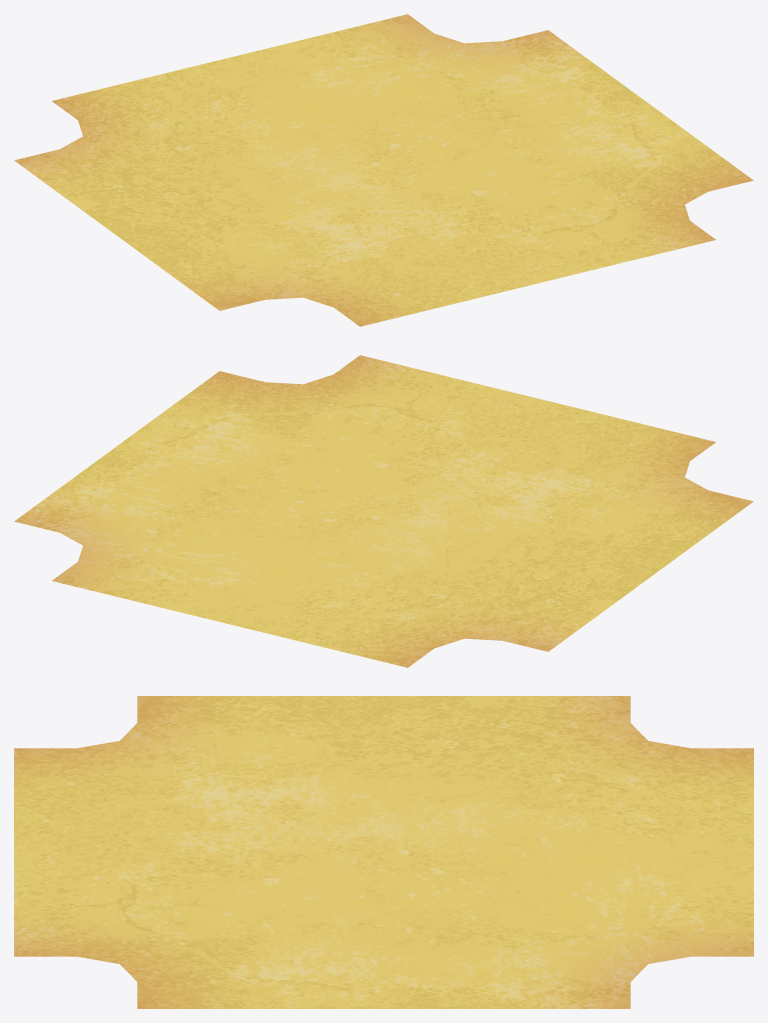
The model's file is Road.003.fbx.
3 renders of one model, top to bottom at view 1: azimuth 30°, elevation 25°; view 2: azimuth 150°, elevation 25°; view 3: azimuth 270°, elevation 25°, orthographic. The views are drawn at different scales.
Parts seen in each view (by area): view 1: Road.003; view 2: Road.003; view 3: Road.003.
Part boxes in pixels (box(x1,y1,x2,y2)): Road.003: box(14, 14, 753, 326); Road.003: box(14, 355, 753, 667); Road.003: box(14, 696, 753, 1008).
Bounding box in the file's own units: 100 × 0 × 100.
